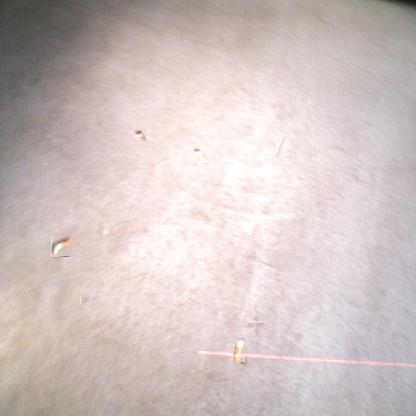dirty: (51, 236, 72, 257), (233, 338, 245, 362), (193, 148, 208, 163), (134, 128, 146, 142)
mark: (272, 138, 290, 156), (250, 318, 263, 331), (80, 296, 89, 305)
